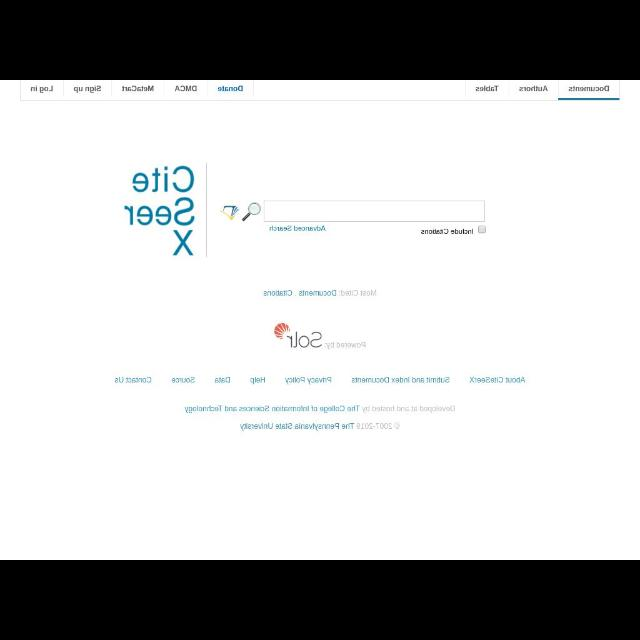checkbox: (478, 225, 486, 233)
image: (120, 162, 198, 260), (274, 322, 322, 348), (242, 202, 260, 222), (219, 203, 239, 221)
input: (263, 200, 485, 222)
multitab: (20, 80, 620, 100)
text: (184, 404, 456, 414), (240, 422, 400, 432), (352, 376, 450, 384), (263, 290, 377, 296), (470, 376, 524, 384), (284, 377, 332, 385), (269, 225, 325, 231), (324, 341, 366, 349), (421, 228, 473, 234), (568, 86, 610, 92), (122, 85, 154, 92), (73, 85, 101, 93), (115, 377, 152, 383), (31, 85, 54, 94), (171, 376, 195, 384), (520, 86, 548, 92), (175, 85, 198, 92), (217, 86, 243, 92), (475, 86, 499, 92), (250, 377, 266, 385), (214, 377, 230, 383)
